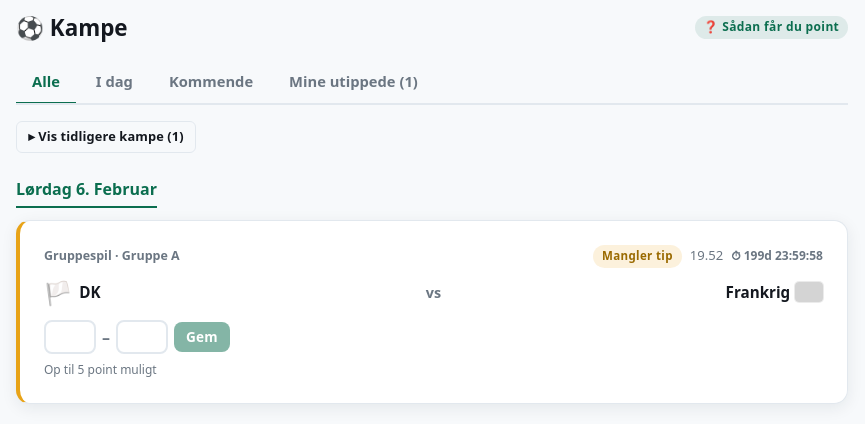
Test: MatchesPage – filtre › filter "I dag" returnerer tom tilstand for historiske/fremtidige kampe
Click the button with test id "filter-idag".
click(114, 83)  # box [80,61,149,105]
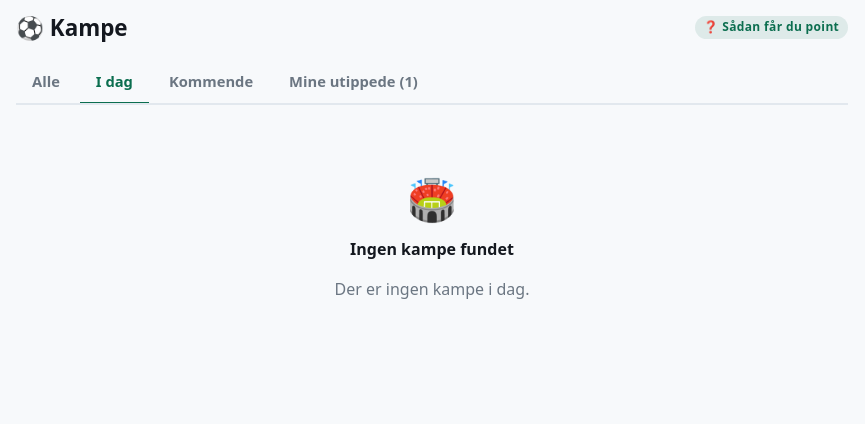
Expected: the element with test id "match-card" is gone
Expected: the text "Ingen kampe fundet" is shown, [350,238,514,260]
